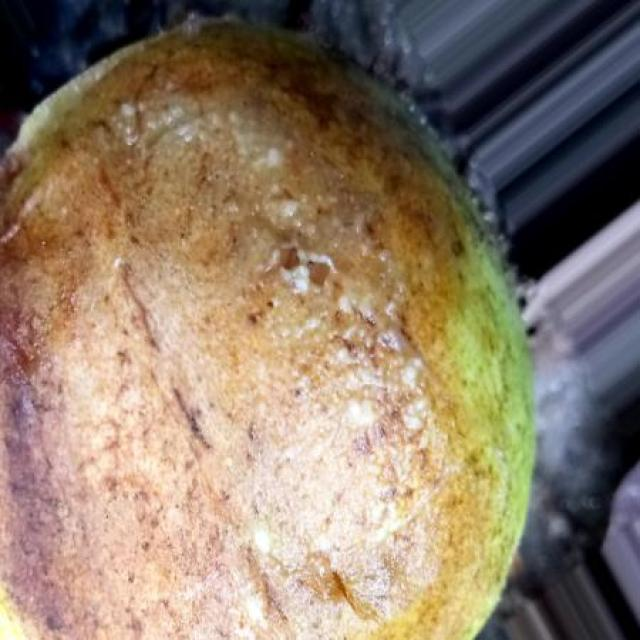Styler and Root: (0, 26, 508, 640)
